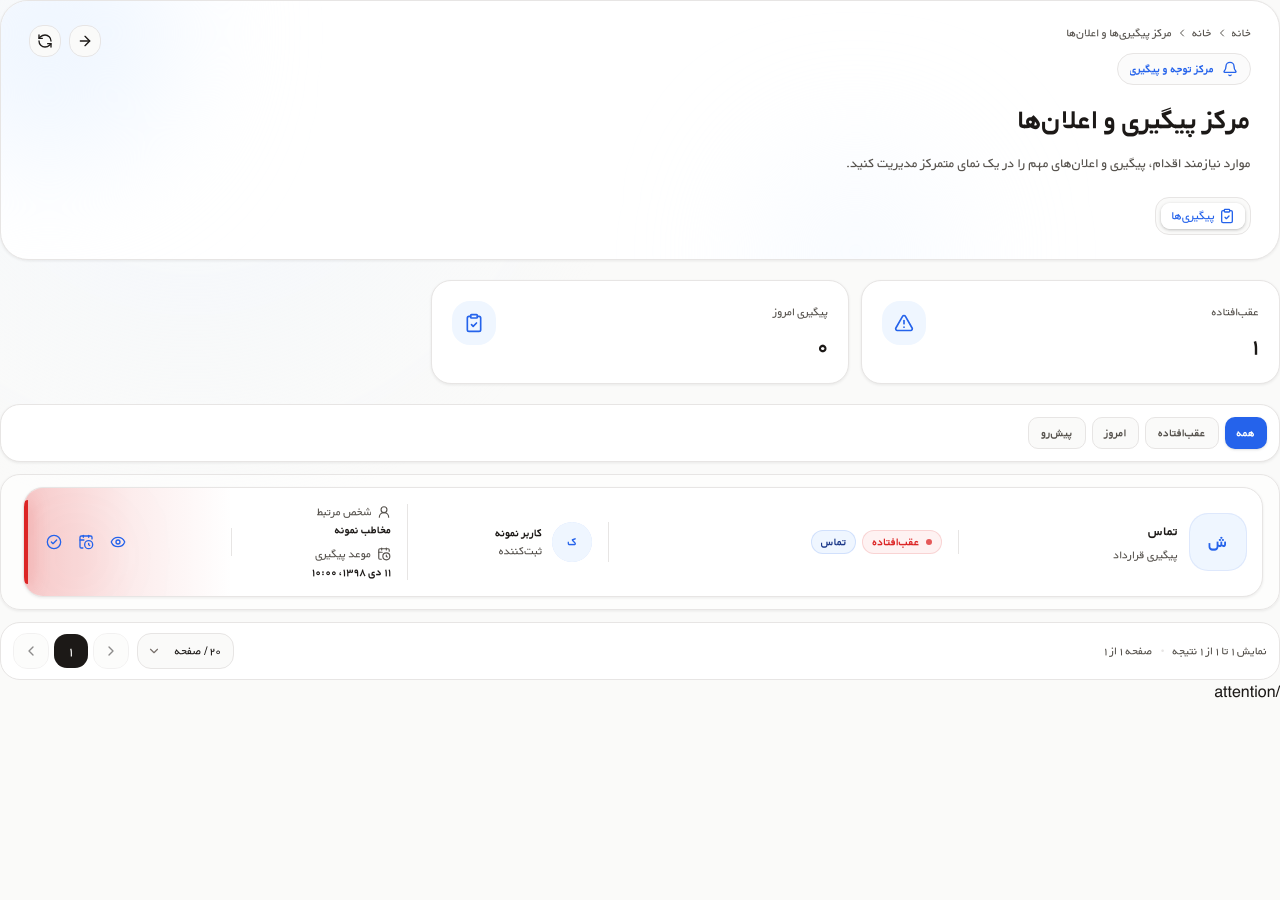
Test: AttentionCenterPage follow-up cards › keeps company navigation and completion dialog behavior
Click the button named "مشاهده شرکت شرکت نمونه". click: (118, 542)
box: [104,528,132,556]
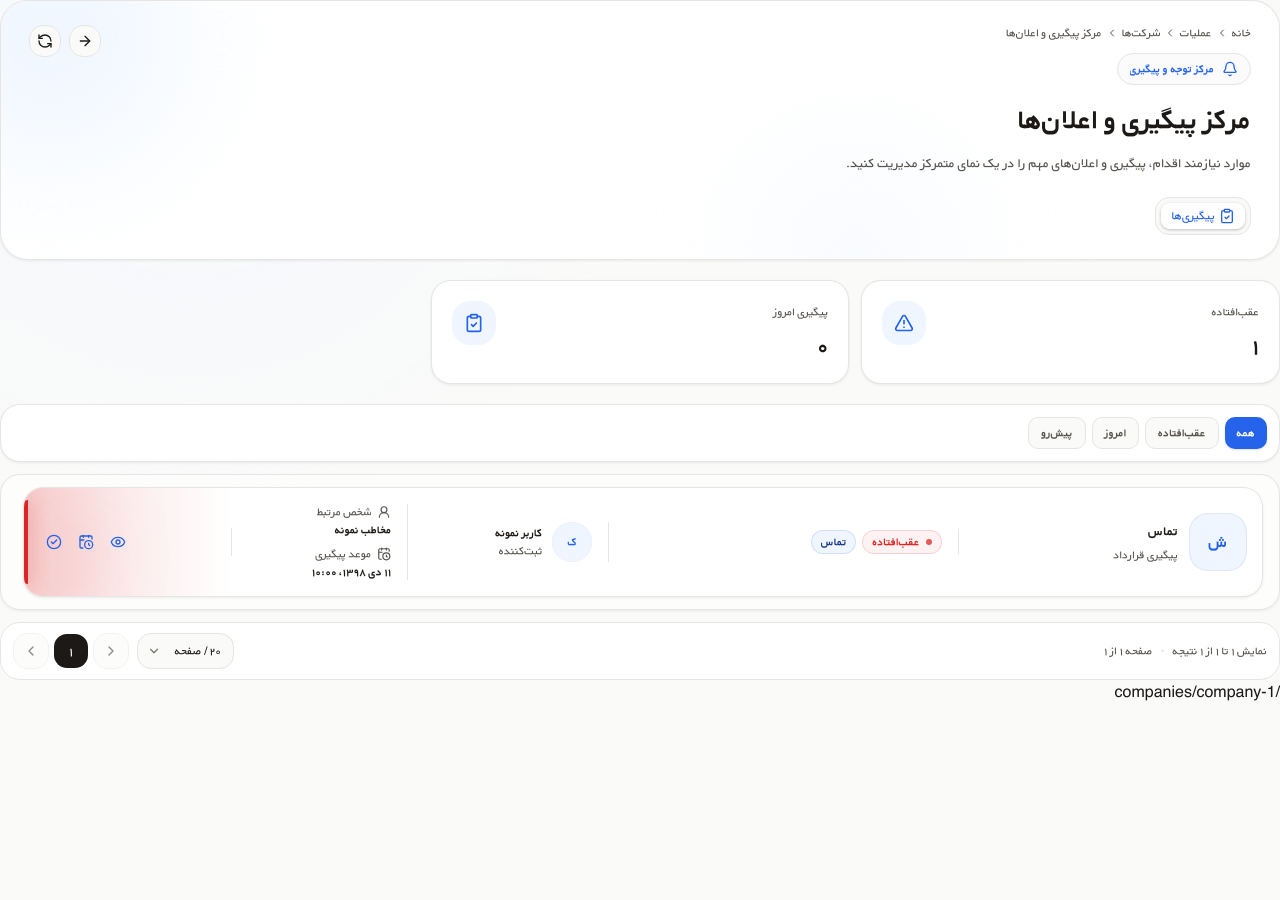
Expected: the text with test id "location" reads "/companies/company-1", [1115,680,1279,703]
Click the button named "انجام شد". click: (54, 542)
box: [40,528,68,556]
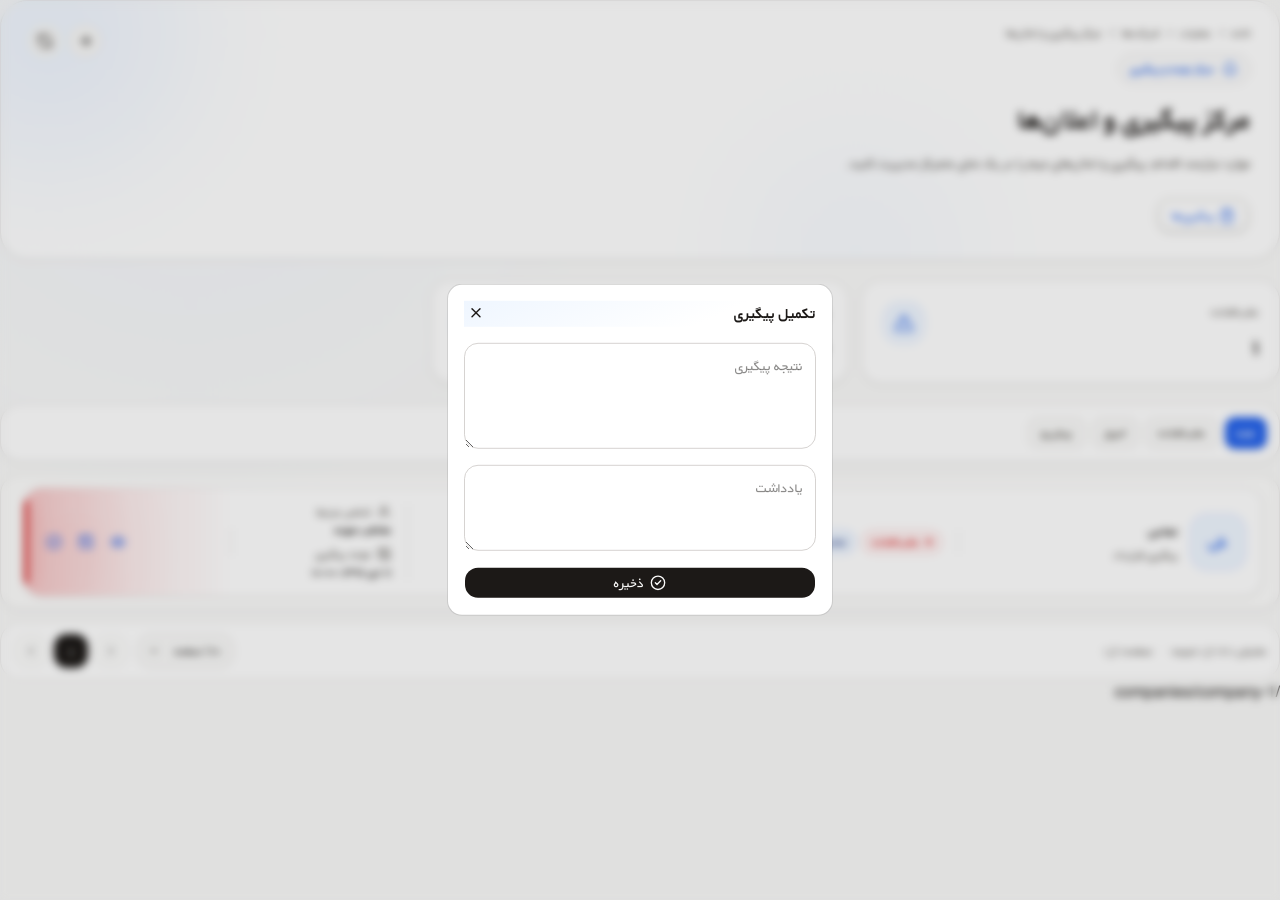
Expected: the dialog shows "تکمیل پیگیری", [734,302,816,325]
